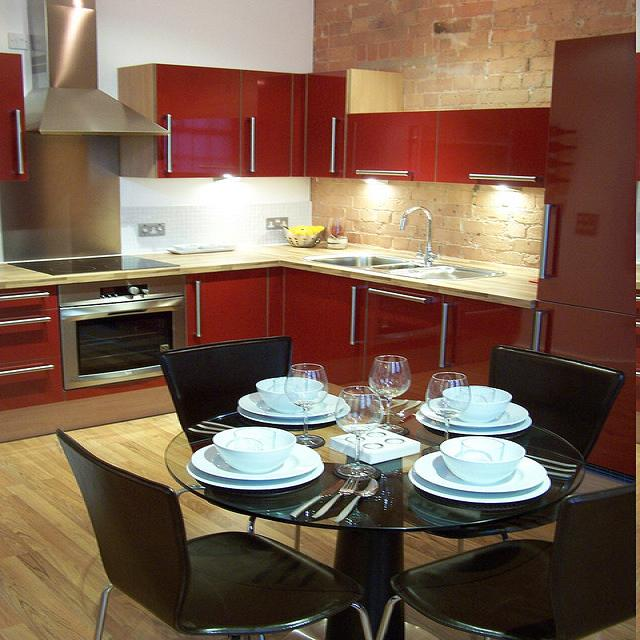chair: (55, 435, 378, 633), (425, 345, 629, 538), (378, 488, 636, 626), (162, 335, 293, 430)
dining table: (165, 354, 582, 532)
